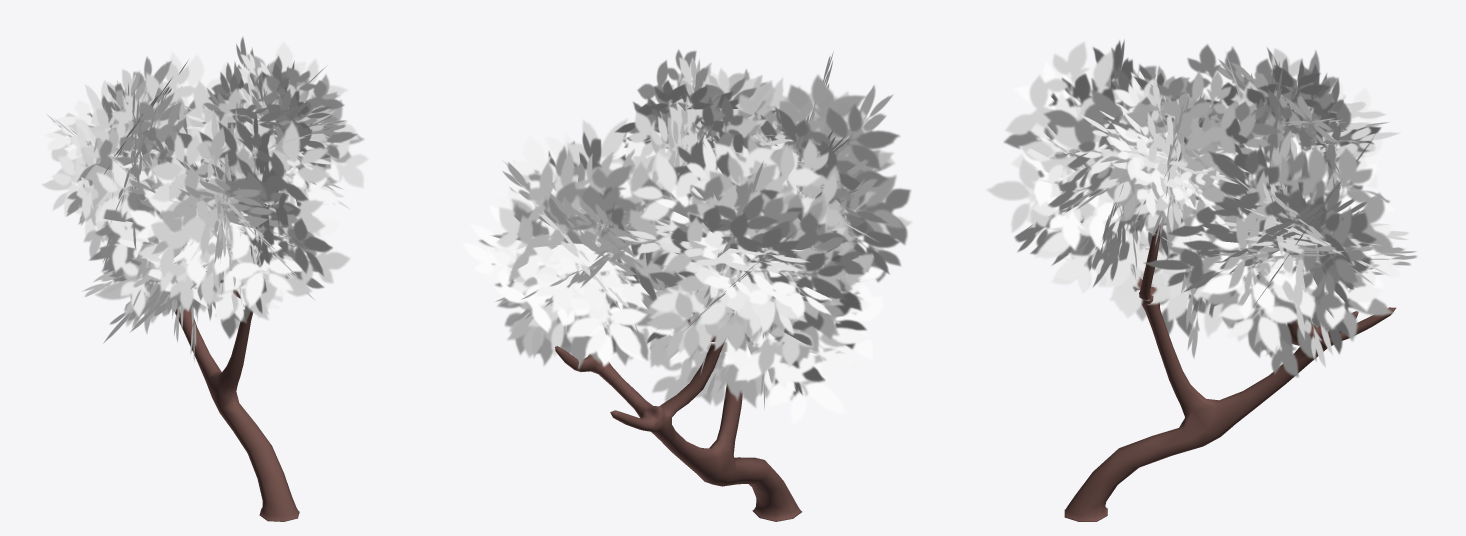
File: tree_stylized_8.glb
3 renders of one model, left to right at view 1: azimuth 30°, elevation 25°; view 2: azimuth 150°, elevation 25°; view 3: azimuth 270°, elevation 25°, orthographic. The views are drawn at different scales.
Visible parts, largest first — view 1: Canopy, Willow_Dead_2; view 2: Canopy, Willow_Dead_2; view 3: Canopy, Willow_Dead_2.
Boxes of the visible parts, <box> form: Canopy: <box>41,36,368,362</box>; Willow_Dead_2: <box>147,199,299,521</box>; Canopy: <box>462,49,912,424</box>; Willow_Dead_2: <box>555,270,801,521</box>; Canopy: <box>986,39,1417,377</box>; Willow_Dead_2: <box>1064,185,1396,521</box>.
Bounding box in the file's own units: 3.09 × 3.78 × 3.55.
2 materials, 1 textured.
